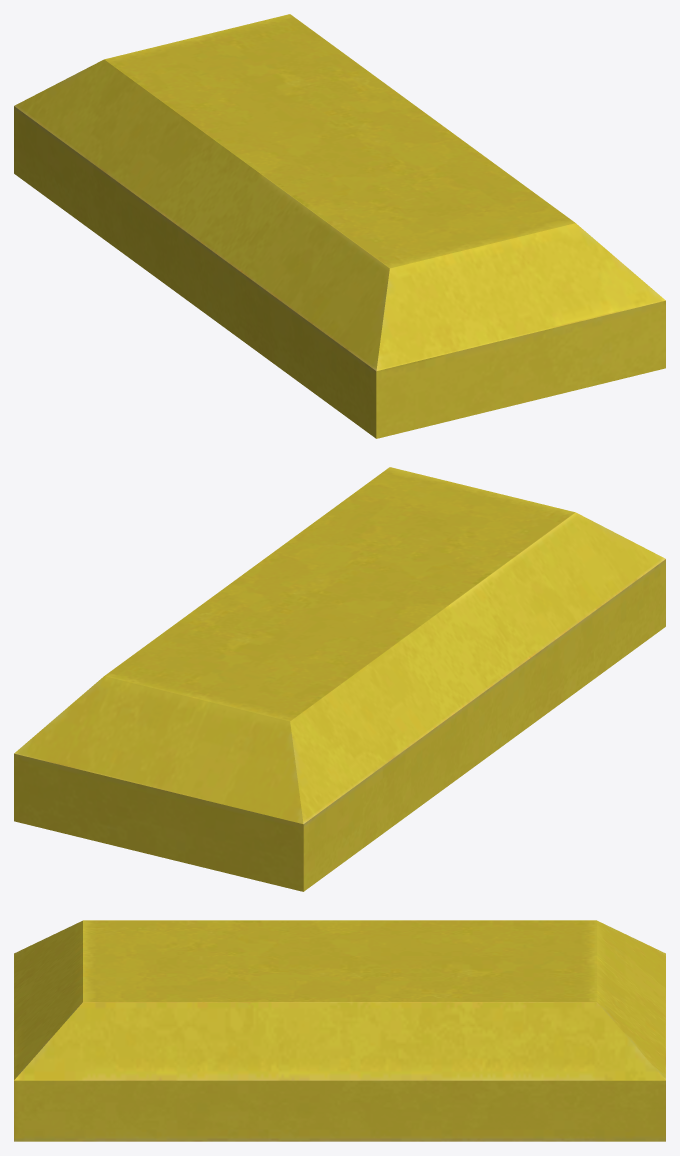
Rendered from GoldIngot_Polished.glb.
3 views of the same model, one above another, from view 1: azimuth 30°, elevation 25°; view 2: azimuth 150°, elevation 25°; view 3: azimuth 270°, elevation 25° (orthographic). The views are drawn at different scales.
Parts seen in each view (by area): view 1: GoldIngot_Polished; view 2: GoldIngot_Polished; view 3: GoldIngot_Polished.
Boxes of the visible parts, left/top/right/bottom form: GoldIngot_Polished: left=14, top=14, right=665, bottom=438; GoldIngot_Polished: left=14, top=467, right=665, bottom=891; GoldIngot_Polished: left=14, top=920, right=665, bottom=1141.
Bounding box in the file's own units: 0.2206 × 0.0945 × 0.4784.
Materials: 1 (1 with a texture image).
